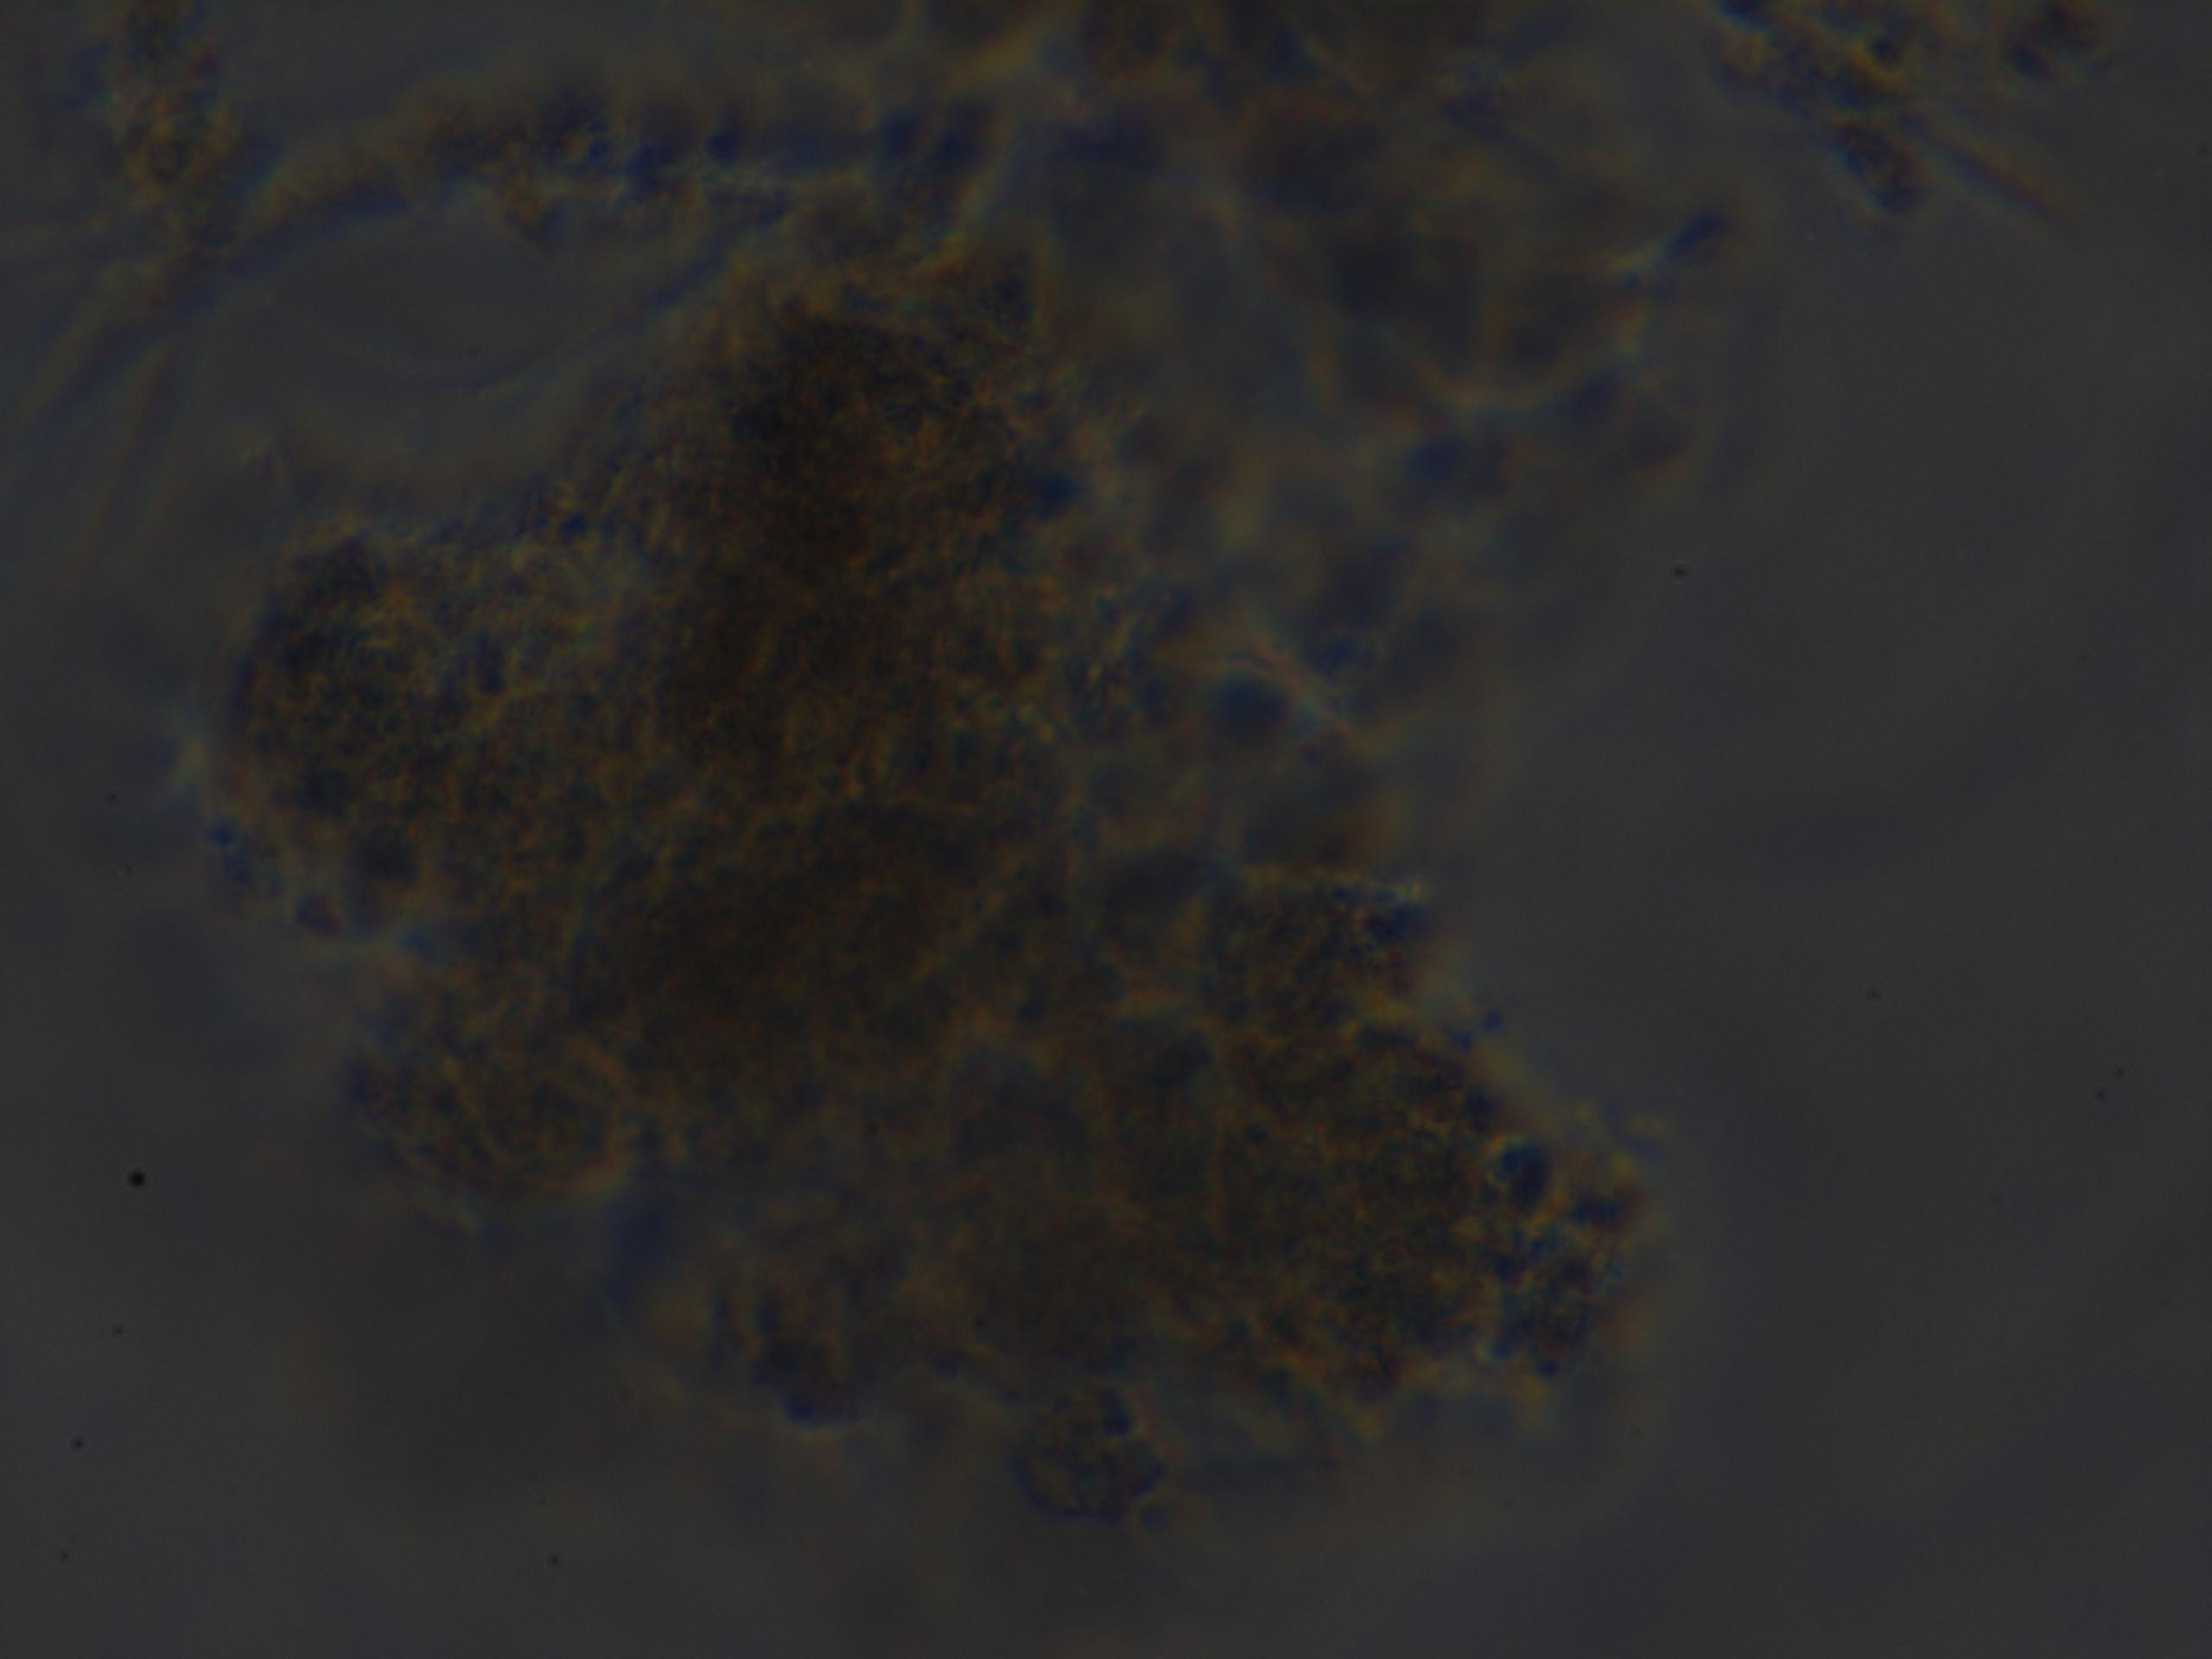filament: (0, 30, 921, 410)
